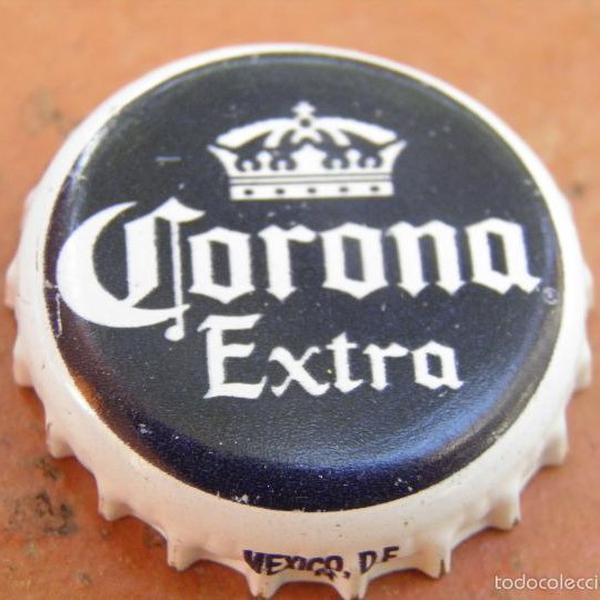corona: (2, 28, 600, 600)
